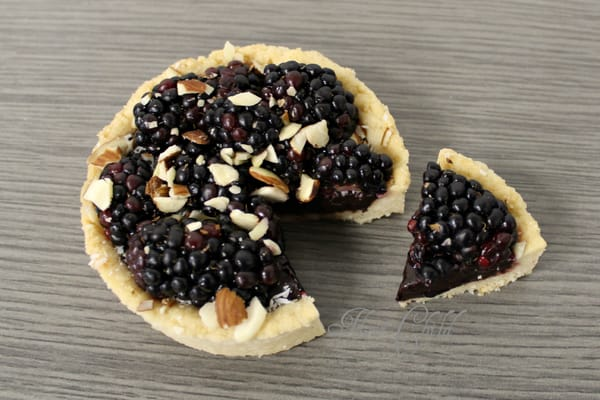curry: (10, 1, 599, 393)
salad: (79, 43, 412, 358)
